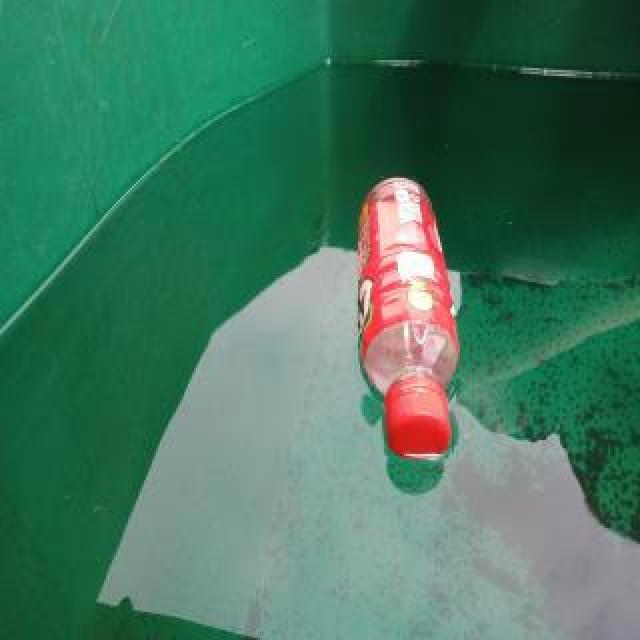bottle: (356, 175, 460, 463)
